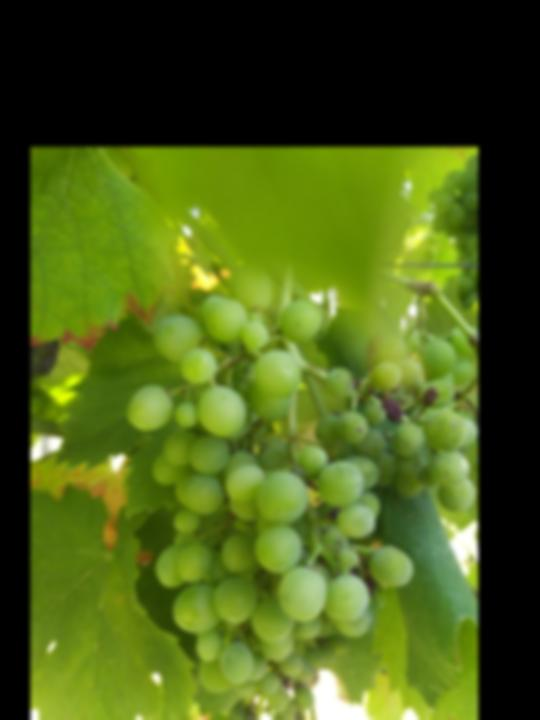grape: (121, 256, 472, 701)
